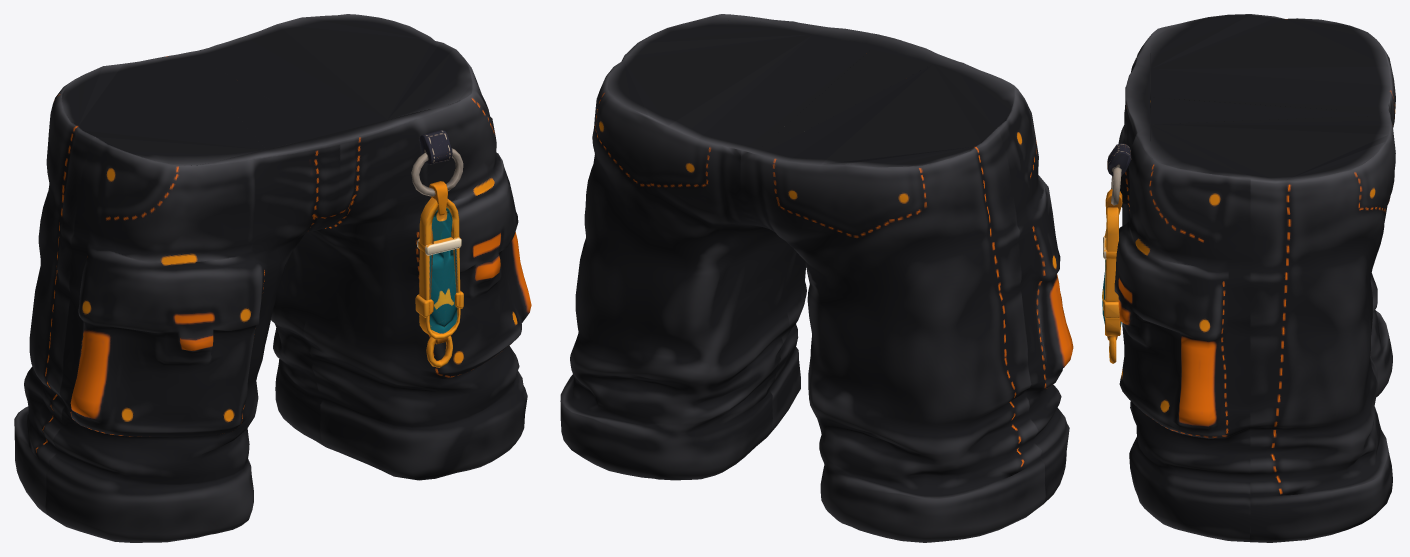
The model's file is Pants.glb.
3 renders of one model, left to right at view 1: azimuth 30°, elevation 25°; view 2: azimuth 150°, elevation 25°; view 3: azimuth 270°, elevation 25°, orthographic. The views are drawn at different scales.
Parts seen in each view (by area): view 1: Pants; view 2: Pants; view 3: Pants.
Part boxes in pixels (bbox=[...]): Pants: bbox=[14, 14, 531, 542]; Pants: bbox=[560, 14, 1073, 542]; Pants: bbox=[1102, 14, 1395, 542].
Size of the model in its own units: 0.4396 by 0.347 by 0.2626.
2 materials, 2 textured.
